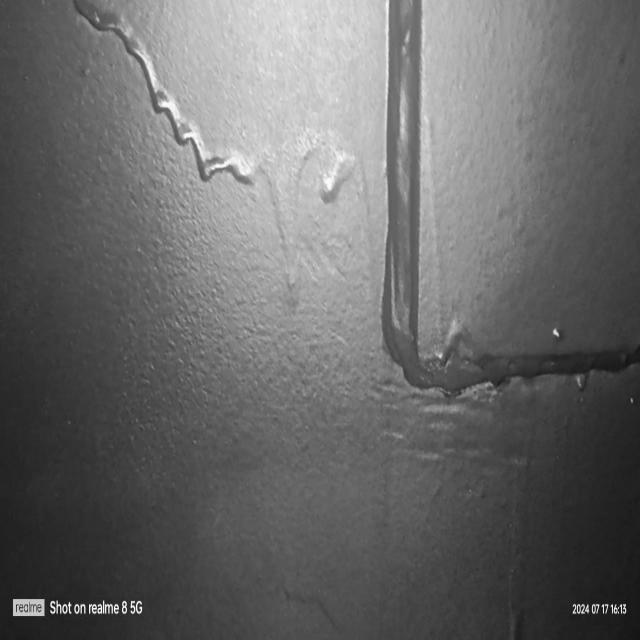paint drips: (59, 0, 378, 312), (502, 381, 541, 640)
